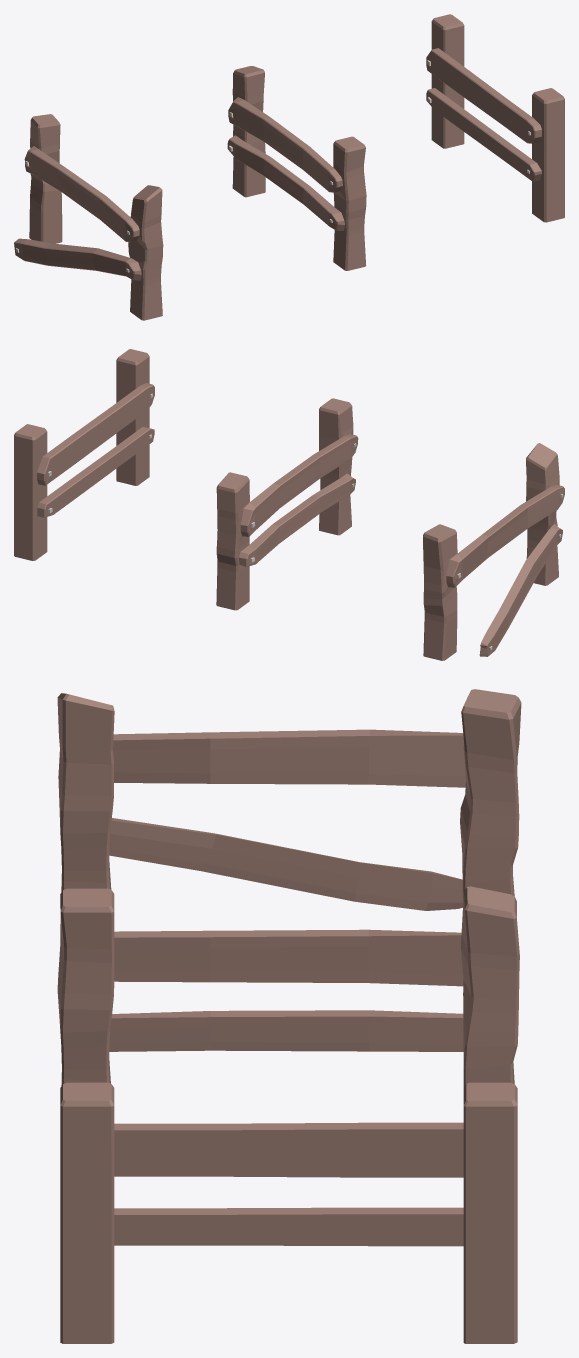
File: fences.fbx
The picture shows the model from 3 angles, top to bottom: view 1: azimuth 30°, elevation 25°; view 2: azimuth 150°, elevation 25°; view 3: azimuth 270°, elevation 25°; orthographic projection. The views are drawn at different scales.
Visible parts, largest first — view 1: Fence03, Fence01, Fence02; view 2: Fence01, Fence02, Fence03; view 3: Fence01, Fence03, Fence02.
Boxes of the visible parts, x1=… form: Fence03: x1=14, y1=114, x2=163, y2=320; Fence01: x1=426, y1=14, x2=564, y2=222; Fence02: x1=227, y1=66, x2=366, y2=270; Fence01: x1=14, y1=349, x2=154, y2=560; Fence02: x1=216, y1=398, x2=358, y2=610; Fence03: x1=423, y1=443, x2=564, y2=660; Fence01: x1=60, y1=1082, x2=517, y2=1343; Fence03: x1=57, y1=689, x2=521, y2=939; Fence02: x1=57, y1=886, x2=519, y2=1086.
Size of the model in its own units: 1357 by 367 by 603.
